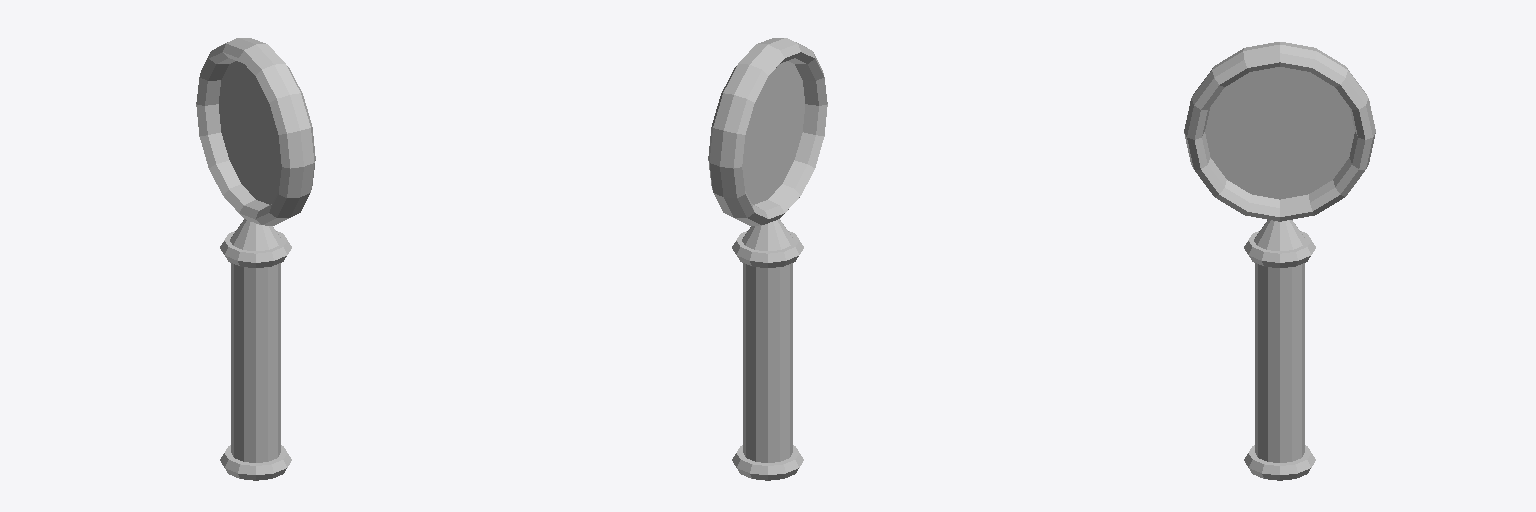
The model's file is glass.obj.
3 views of the same model, side by side, from view 1: azimuth 30°, elevation 25°; view 2: azimuth 150°, elevation 25°; view 3: azimuth 270°, elevation 25° (orthographic).
Visible parts, largest first — view 1: Torus.002, Cylinder, Plane_Plane.001, Torus, Torus.001, Cone; view 2: Torus.002, Cylinder, Plane_Plane.001, Torus, Torus.001, Cone; view 3: Plane_Plane.001, Torus.002, Cylinder, Torus, Torus.001, Cone.
Part boxes in pixels (left/top/right/bottom): Torus.002: left=196, top=38, right=315, bottom=225; Cylinder: left=231, top=263, right=280, bottom=462; Plane_Plane.001: left=219, top=61, right=281, bottom=204; Torus: left=220, top=445, right=291, bottom=480; Torus.001: left=220, top=231, right=291, bottom=267; Cone: left=230, top=219, right=281, bottom=250; Torus.002: left=708, top=38, right=827, bottom=225; Cylinder: left=743, top=263, right=792, bottom=462; Plane_Plane.001: left=742, top=61, right=804, bottom=204; Torus: left=732, top=445, right=803, bottom=480; Torus.001: left=732, top=231, right=803, bottom=267; Cone: left=742, top=219, right=793, bottom=250; Plane_Plane.001: left=1205, top=67, right=1354, bottom=199; Torus.002: left=1184, top=42, right=1375, bottom=221; Cylinder: left=1255, top=263, right=1304, bottom=462; Torus: left=1244, top=445, right=1315, bottom=480; Torus.001: left=1244, top=231, right=1315, bottom=267; Cone: left=1254, top=220, right=1305, bottom=250.
Size of the model in its own units: 0.62 by 3.98 by 1.64.